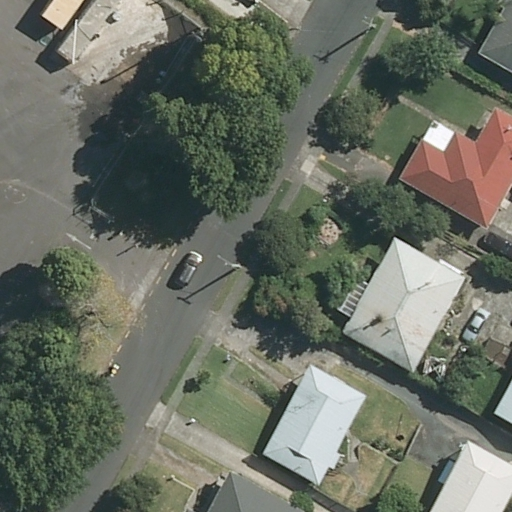DT: (216, 256, 246, 272), (360, 14, 379, 32)
